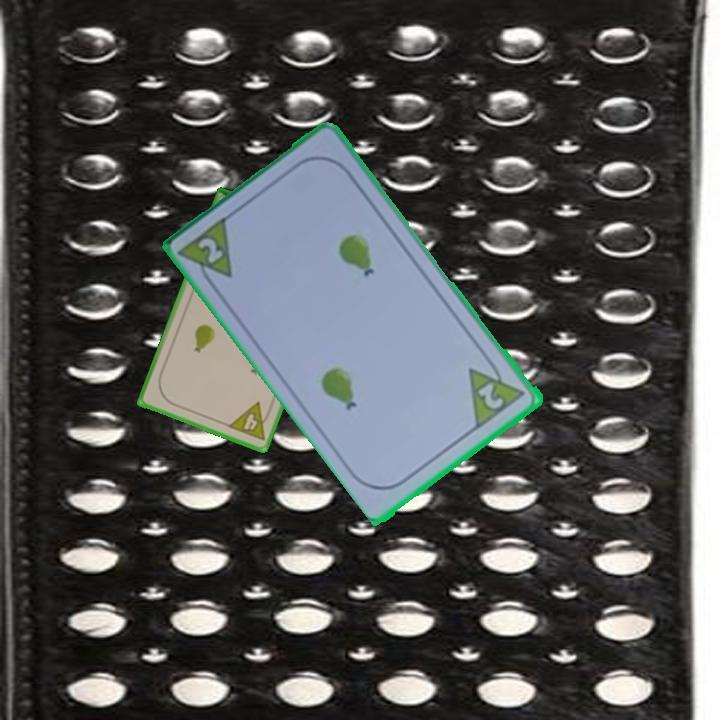2p: (465, 352, 530, 431), (177, 211, 237, 294)
4p: (224, 398, 275, 444)
